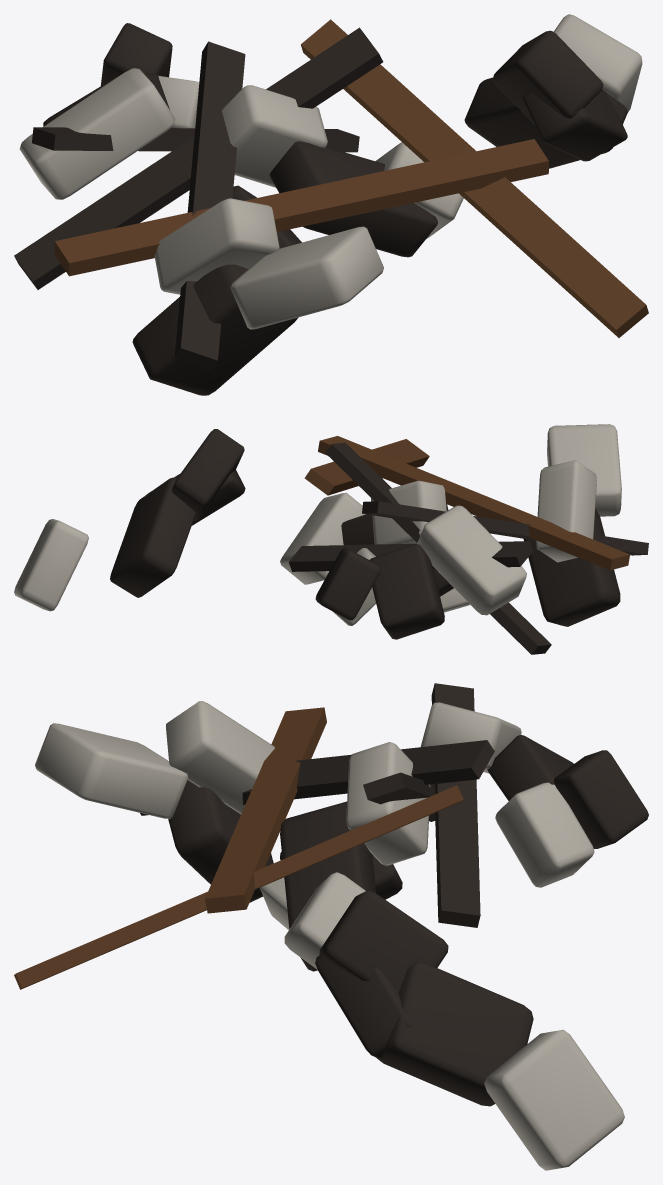
The model's file is prop_puing_a.glb.
The picture shows the model from 3 angles, top to bottom: view 1: azimuth 30°, elevation 25°; view 2: azimuth 150°, elevation 25°; view 3: azimuth 270°, elevation 25°; orthographic projection. The views are drawn at different scales.
Visible parts, largest first — view 1: puing_a; view 2: puing_a; view 3: puing_a.
Boxes of the visible parts, bbox=[...] form: puing_a: bbox=[14, 14, 648, 395]; puing_a: bbox=[14, 424, 648, 654]; puing_a: bbox=[14, 683, 648, 1170].
Size of the model in its own units: 3 by 1.03 by 2.38.
